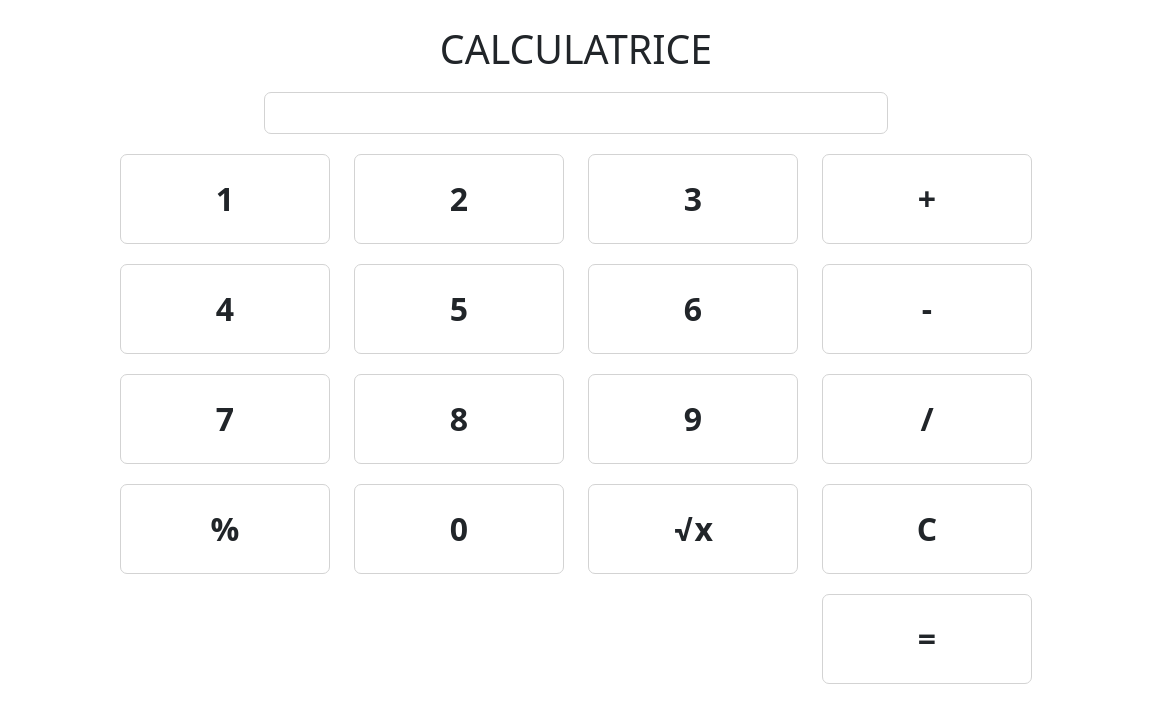
Test case: test rc fonctional
(page scrolled)
Click the text with class "touch" showing "√x": (693, 529) [588,484,798,574]
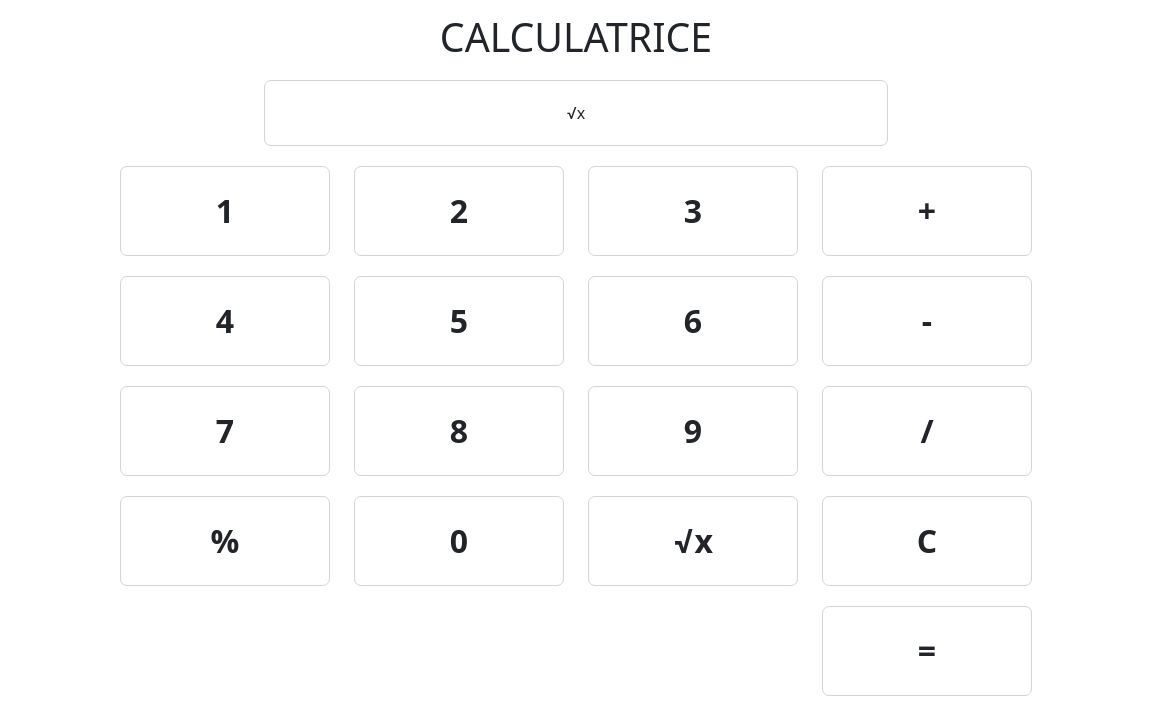
Click the text with class "touch" showing "1": (225, 211) [120,166,330,256]
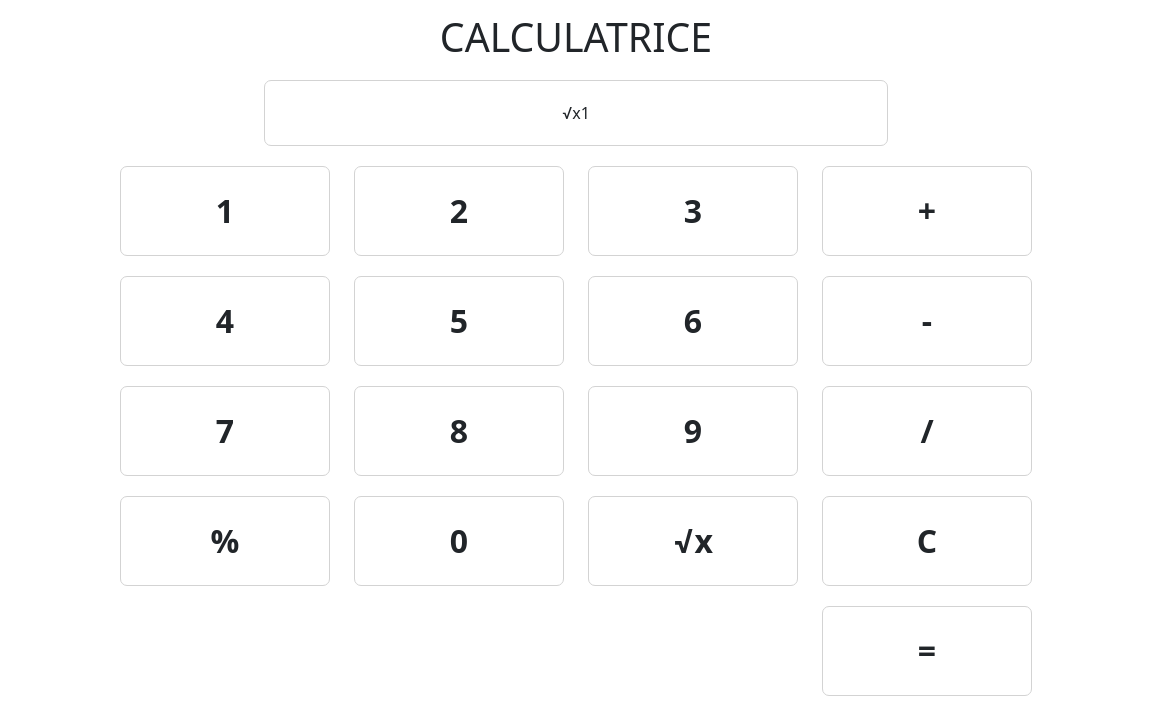
Click the text with class "touch" showing "=": (927, 651) [822,606,1032,696]
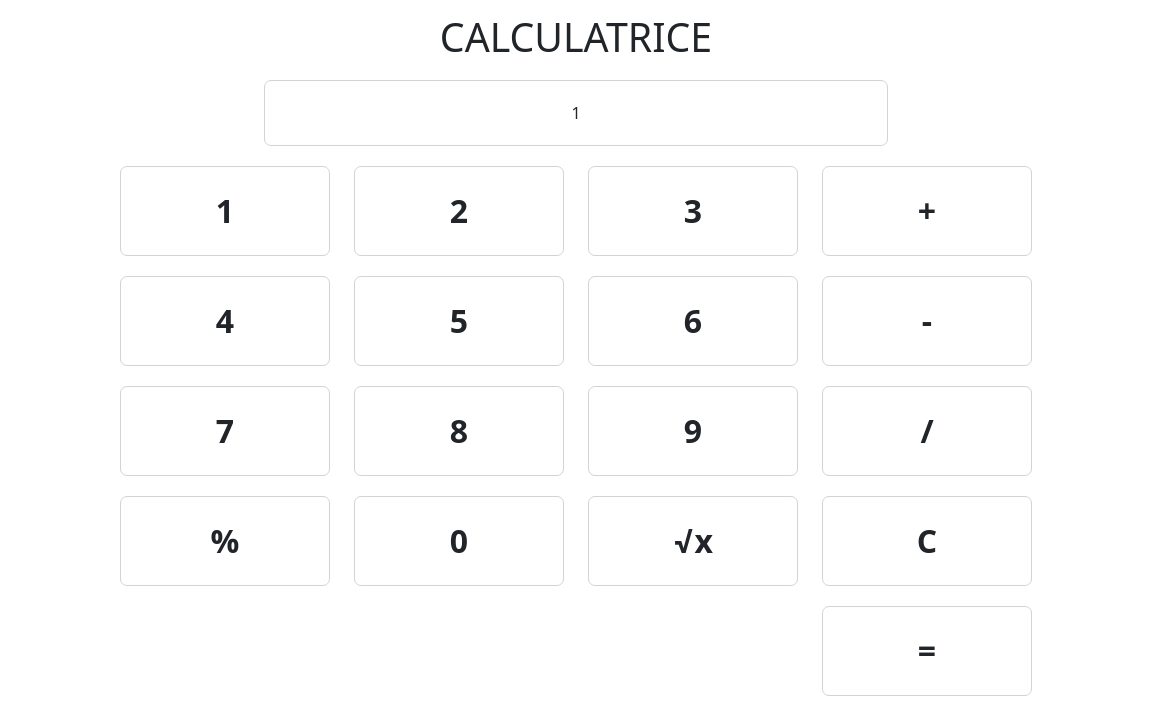
Check: the text with class "result" reads "1", box [571,102,581,124]
